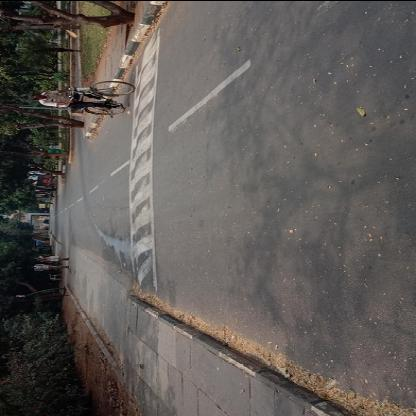speed-bumps: (125, 28, 168, 295)
